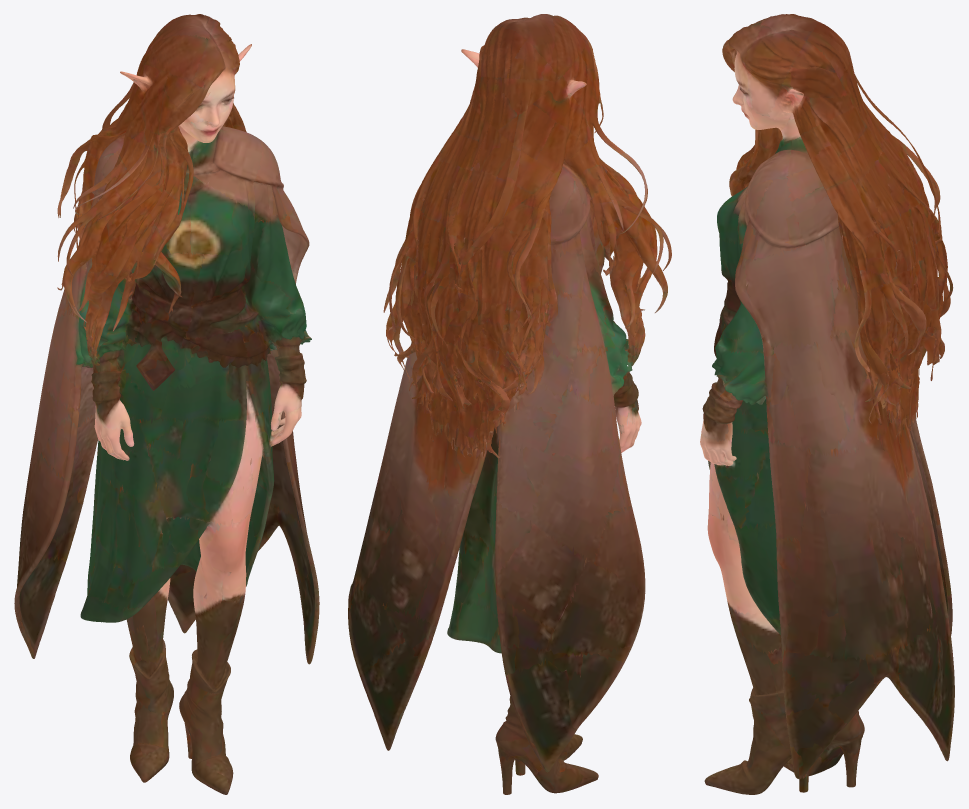
Rendered from elffemale1.glb.
3 renders of one model, left to right at view 1: azimuth 30°, elevation 25°; view 2: azimuth 150°, elevation 25°; view 3: azimuth 270°, elevation 25°, orthographic. The views are drawn at different scales.
Bounding box in the file's own units: 0.7335 × 1.9 × 0.5689.
1 material, 1 textured.
